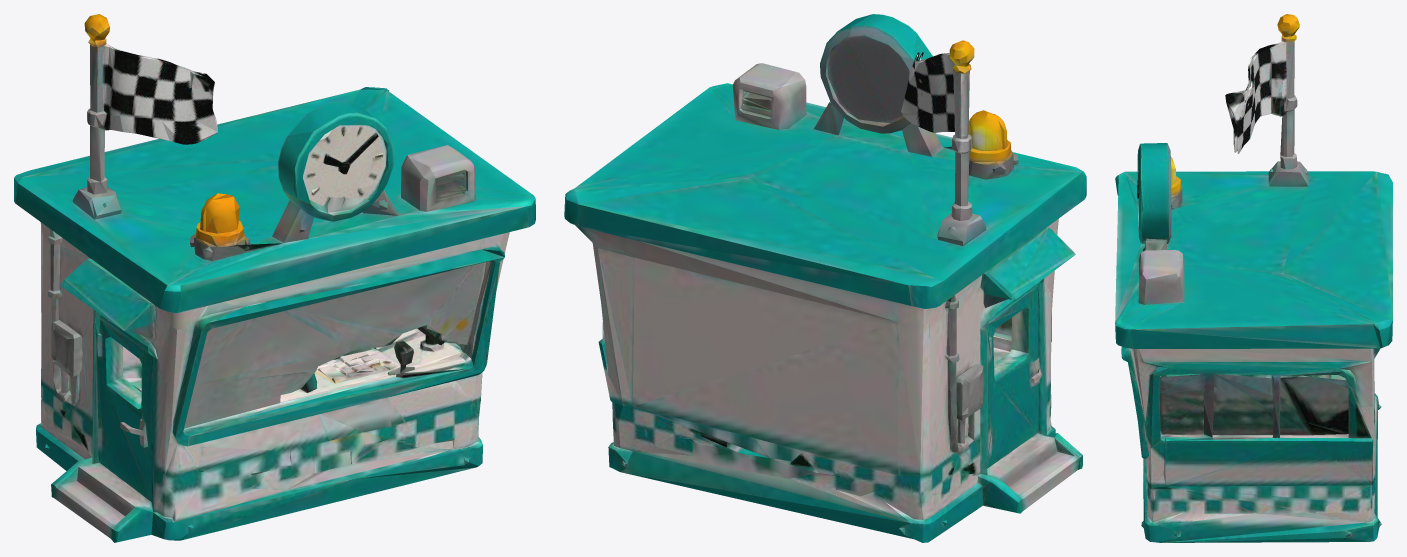
The model's file is prop_booth.glb.
3 views of the same model, side by side, from view 1: azimuth 30°, elevation 25°; view 2: azimuth 150°, elevation 25°; view 3: azimuth 270°, elevation 25° (orthographic). The views are drawn at different scales.
Size of the model in its own units: 1.7 by 1.9 by 1.19.
1 material, 1 textured.
